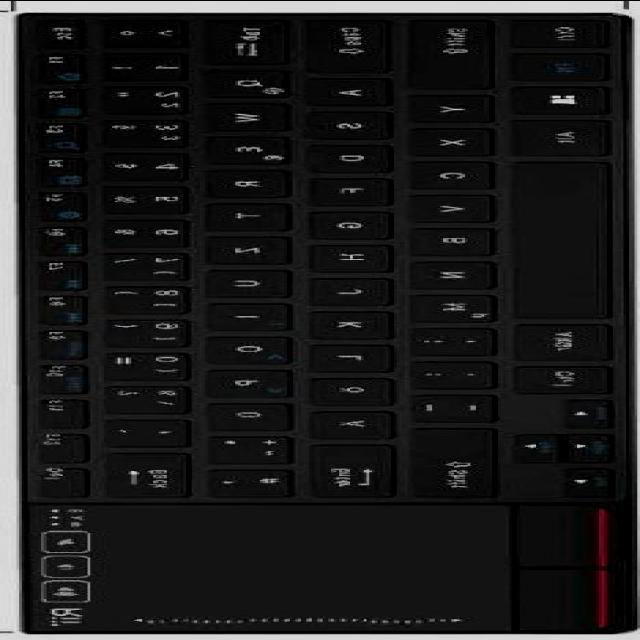0: (93, 348, 183, 378)
1: (91, 51, 181, 79)
2: (88, 82, 178, 112)
3: (91, 117, 181, 147)
4: (88, 151, 181, 179)
5: (88, 183, 181, 213)
6: (93, 217, 181, 247)
7: (93, 250, 183, 278)
8: (93, 283, 181, 311)
9: (93, 315, 183, 345)
a: (290, 75, 383, 103)
accent: (93, 417, 181, 445)
ae: (296, 408, 386, 436)
alt-left: (495, 117, 605, 155)
altgr-right: (498, 320, 604, 360)
b: (397, 224, 487, 254)
c: (394, 158, 487, 189)
caret: (90, 16, 178, 46)
comma: (394, 325, 484, 353)
d: (293, 141, 386, 171)
del: (91, 450, 184, 496)
e: (192, 133, 282, 161)
enter: (293, 442, 386, 496)
f: (295, 175, 383, 203)
g: (295, 209, 383, 237)
h: (295, 241, 383, 269)
hash: (192, 466, 285, 496)
i: (192, 300, 282, 328)
j: (296, 276, 386, 304)
k: (293, 308, 386, 338)
keyboard: (8, 9, 637, 633)
l: (295, 342, 383, 370)
m: (394, 291, 490, 321)
minus: (397, 391, 487, 419)
n: (394, 257, 487, 287)
o: (192, 333, 282, 363)
oe: (296, 375, 386, 403)
p: (192, 367, 282, 395)
plus: (195, 432, 285, 462)
point: (394, 359, 484, 387)
q: (189, 66, 282, 96)
r: (194, 166, 282, 196)
s: (290, 108, 386, 138)
shift-left: (391, 17, 484, 87)
shift-lock: (287, 16, 383, 70)
shift-right: (394, 426, 490, 496)
space: (498, 159, 604, 317)
ss: (93, 382, 181, 412)
strg-left: (500, 18, 610, 49)
strg-right: (498, 363, 604, 391)
t: (192, 200, 282, 228)
tab: (181, 16, 282, 62)
u: (192, 267, 282, 295)
ue: (192, 399, 285, 429)
v: (391, 191, 487, 221)
w: (184, 100, 282, 130)
x: (394, 125, 484, 155)
y: (394, 92, 484, 122)
z: (189, 233, 282, 263)
